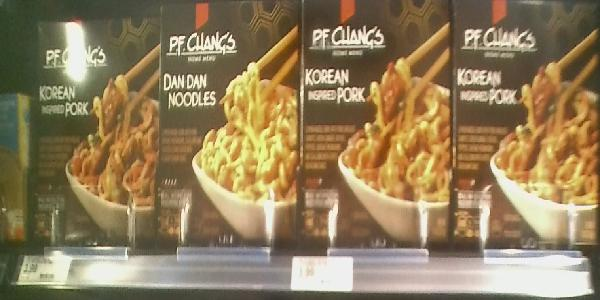pizza1: (452, 1, 599, 259), (302, 1, 452, 249), (161, 1, 301, 247), (28, 1, 160, 249)
